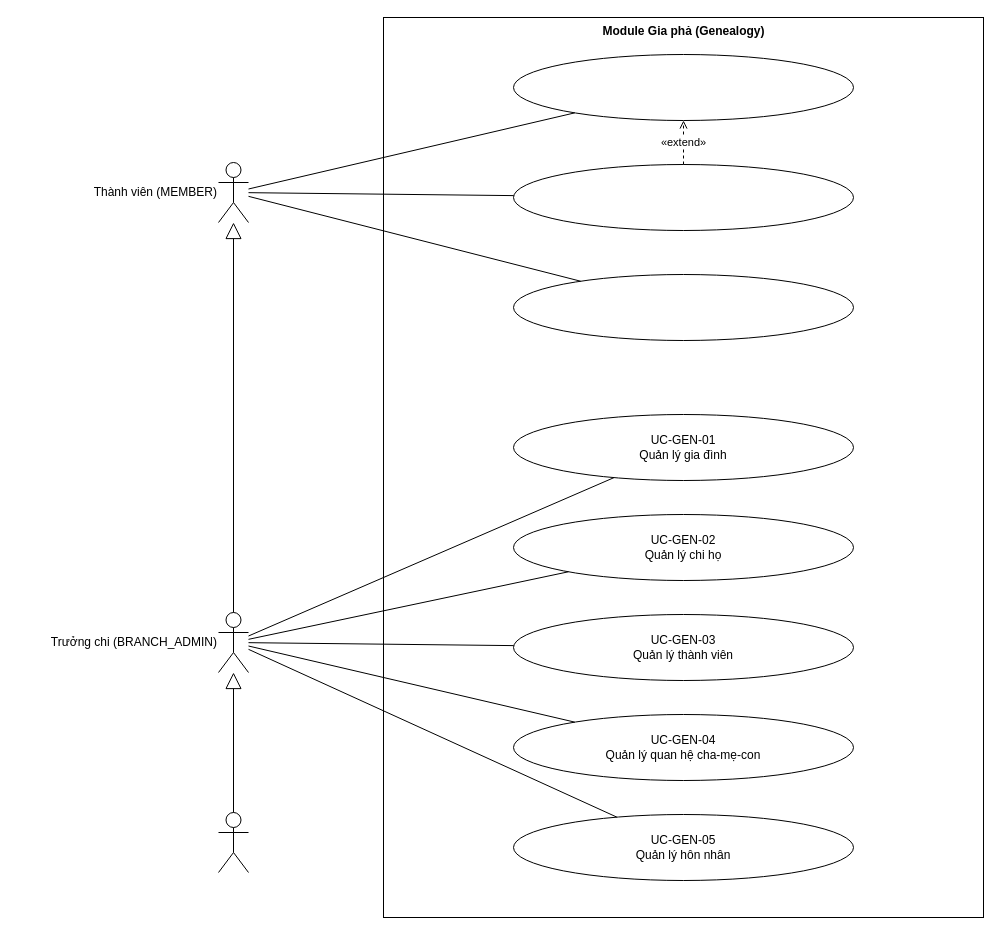
The diagram is 1001 pixels wide and 935 high, and some of its shapes have lost their labels. The shapes that lost their labels are listed below. From the top down, each one's centre as x and y in pixels, then its label:
the point at 683,87: UC-GEN-06 Xem cây gia phả
the point at 683,197: UC-GEN-07 Hiển thị trực quan quan hệ giữa hai thành viên
the point at 683,307: UC-GEN-08 Truy vấn quan hệ họ hàng
the point at 233,842: Quản trị hệ thống (SYSTEM_ADMIN)
